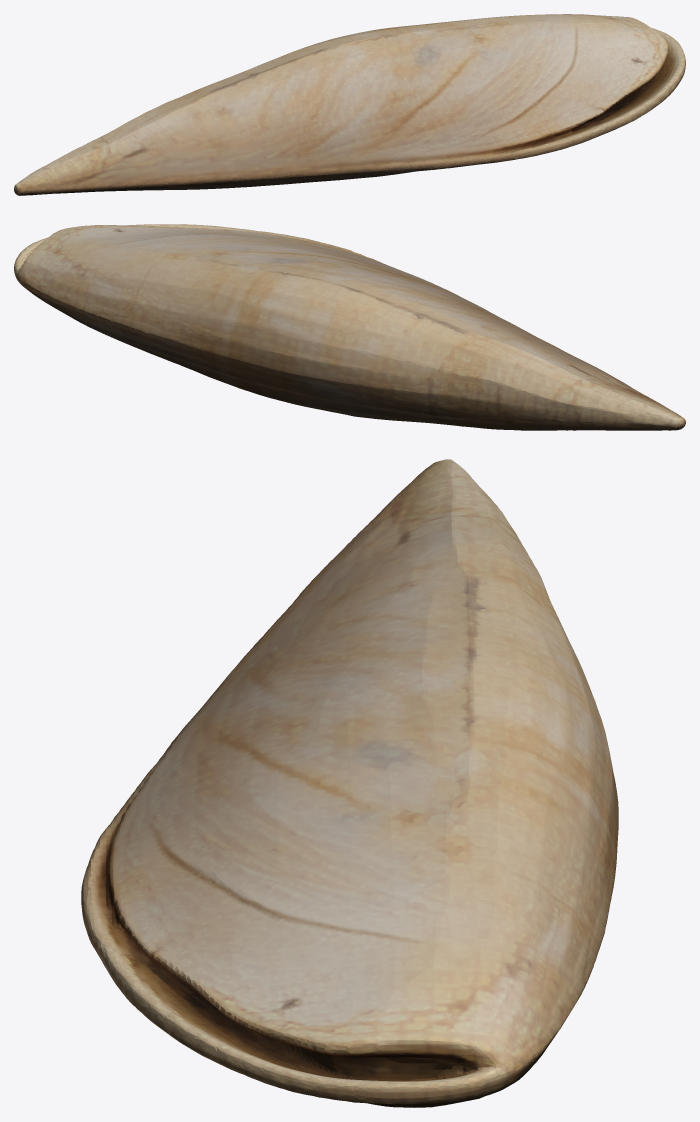
3 renders of one model, top to bottom at view 1: azimuth 30°, elevation 25°; view 2: azimuth 150°, elevation 25°; view 3: azimuth 270°, elevation 25°, orthographic. The views are drawn at different scales.
Visible parts, largest first — view 1: world; view 2: world; view 3: world.
Part boxes in pixels (x1=…): world: x1=14, y1=14, x2=685, y2=195; world: x1=14, y1=224, x2=685, y2=430; world: x1=81, y1=459, x2=618, y2=1107.
Size of the model in its own units: 1 by 0.1718 by 0.3608.
1 material, 1 textured.
